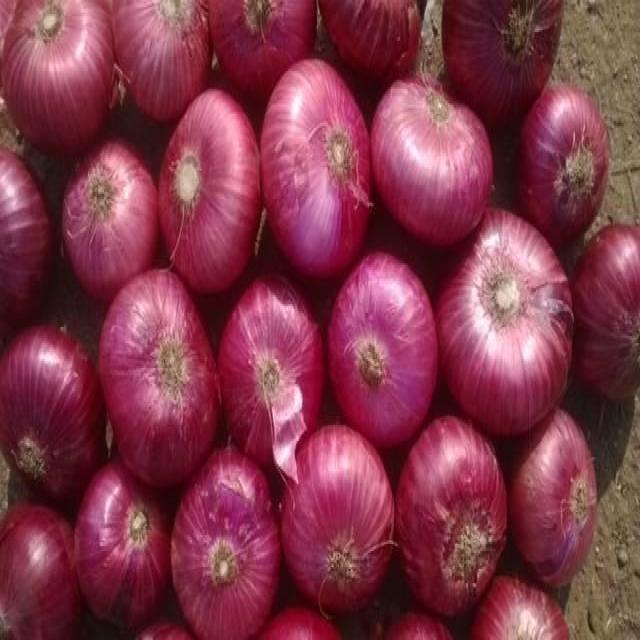onion: (438, 208, 569, 430), (99, 276, 220, 487), (259, 61, 371, 276), (326, 256, 438, 452), (218, 265, 323, 471), (371, 73, 492, 251), (280, 420, 393, 604), (396, 420, 504, 610), (170, 455, 279, 640), (159, 90, 258, 290), (0, 314, 104, 498), (0, 0, 113, 153), (62, 137, 159, 309), (71, 460, 171, 620), (442, 0, 558, 128), (511, 407, 594, 583), (518, 82, 607, 231), (113, 0, 212, 121), (573, 220, 640, 390)
